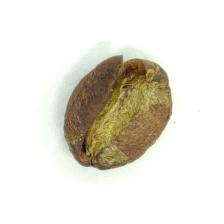NG: (90, 54, 163, 167)
